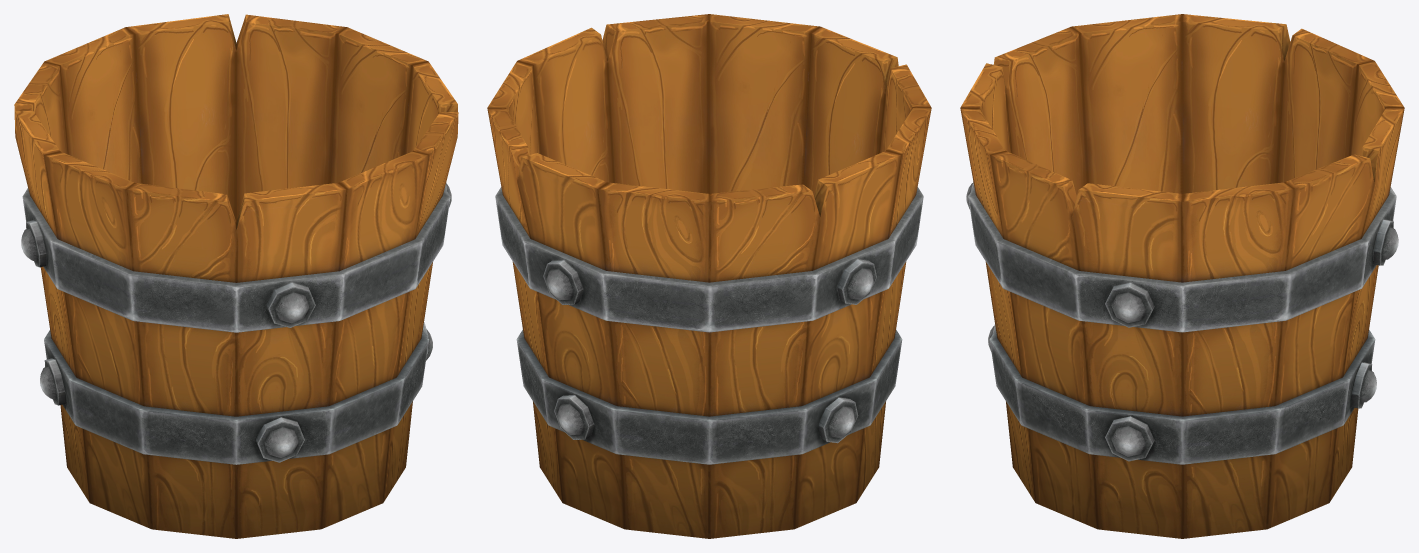
The model's file is low_poly_stylized_wooden_bucket.glb.
The picture shows the model from 3 angles, left to right: view 1: azimuth 30°, elevation 25°; view 2: azimuth 150°, elevation 25°; view 3: azimuth 270°, elevation 25°; orthographic projection.
Parts seen in each view (by area): view 1: Bucket; view 2: Bucket; view 3: Bucket.
Boxes of the visible parts, bbox=[...] form: Bucket: bbox=[14, 14, 458, 538]; Bucket: bbox=[487, 14, 931, 538]; Bucket: bbox=[960, 14, 1404, 538].
Size of the model in its own units: 1.85 by 1.65 by 1.85.
1 material, 1 textured.
